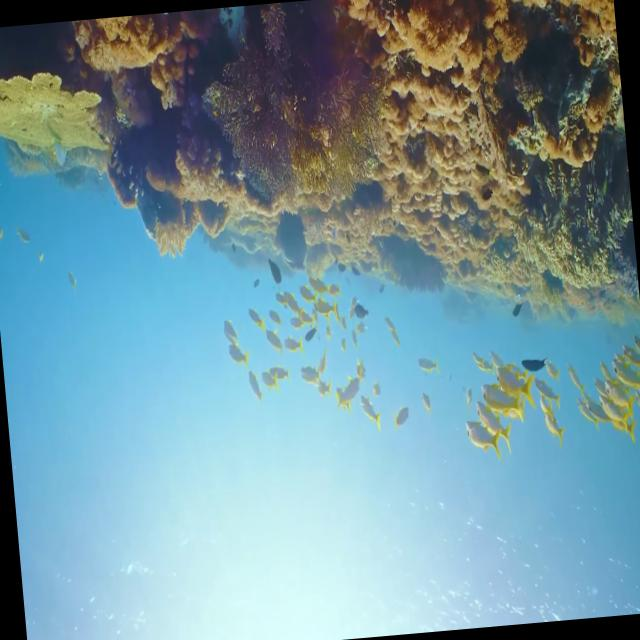fish: (472, 392, 514, 457), (496, 362, 535, 412), (464, 414, 504, 461), (357, 388, 383, 436), (544, 410, 566, 446), (390, 405, 413, 434), (260, 364, 280, 395)
